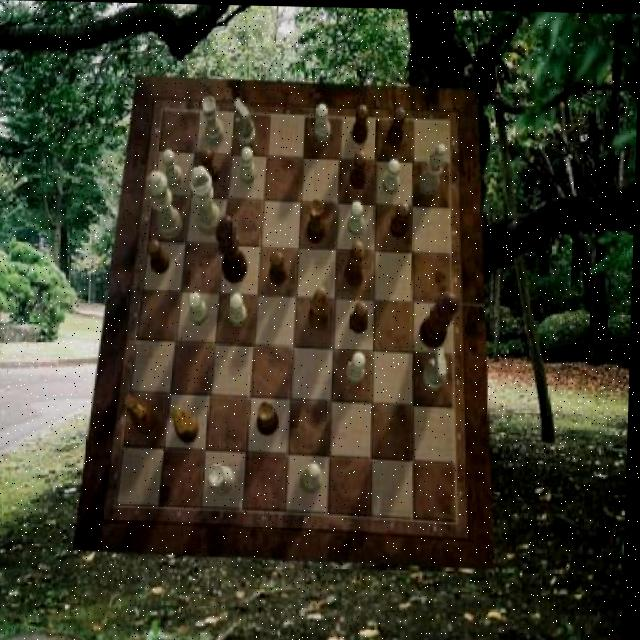bishop: (346, 240, 367, 287), (309, 286, 330, 330)
black-bishop: (216, 213, 251, 283)
black-king: (126, 393, 160, 432), (171, 406, 202, 441)
black-knight: (148, 238, 172, 273), (200, 147, 220, 185), (387, 107, 407, 145), (391, 201, 411, 237), (350, 149, 368, 188), (351, 103, 368, 143), (271, 250, 290, 284), (352, 300, 370, 333)
black-pawn: (421, 289, 460, 348)
black-queen: (308, 196, 328, 242), (258, 400, 282, 435)
black-rook: (419, 141, 445, 194), (301, 462, 325, 495)
white-bishop: (189, 165, 224, 234)
white-king: (234, 98, 258, 148), (424, 346, 449, 389)
white-knight: (163, 149, 185, 188), (348, 349, 368, 384), (239, 146, 257, 184), (190, 291, 210, 325), (315, 102, 332, 141), (230, 292, 249, 326), (349, 198, 367, 233), (383, 158, 401, 192)
white-pawn: (146, 171, 185, 240)
white-queen: (201, 95, 225, 144), (210, 462, 237, 495)
